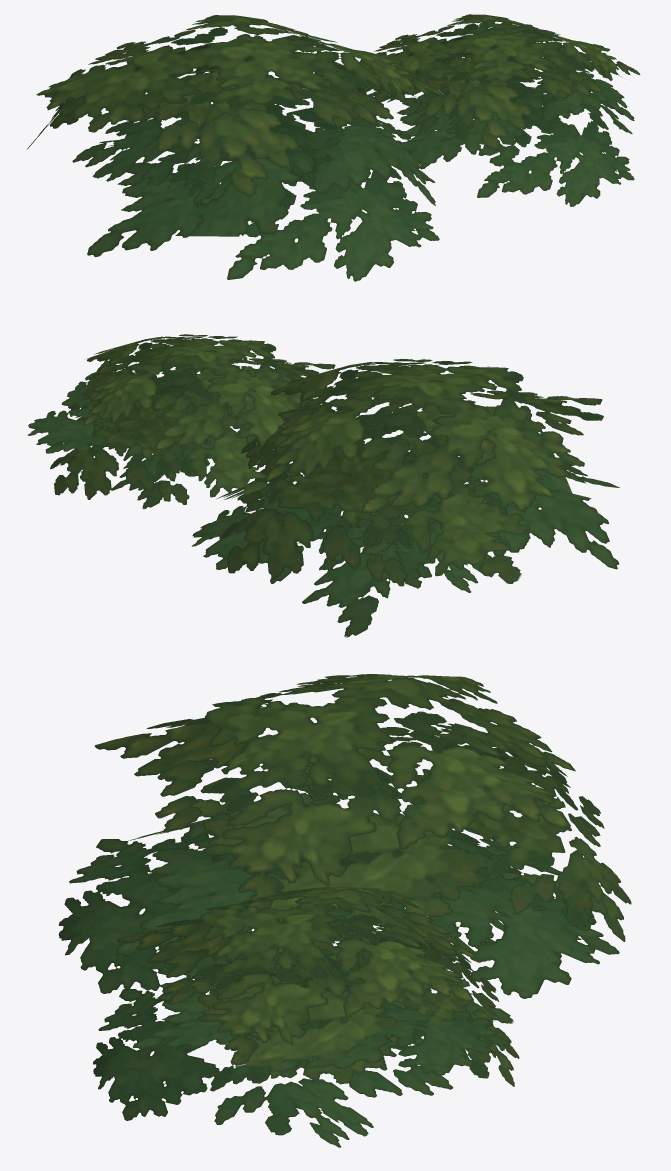
The model's file is shrine_plant002_03.FBX.
The picture shows the model from 3 angles, top to bottom: view 1: azimuth 30°, elevation 25°; view 2: azimuth 150°, elevation 25°; view 3: azimuth 270°, elevation 25°; orthographic projection. The views are drawn at different scales.
Parts seen in each view (by area): view 1: shrine_plant002_03; view 2: shrine_plant002_03; view 3: shrine_plant002_03.
Boxes of the visible parts, x1,y1,x2,y2 form: shrine_plant002_03: (27,14,639,281); shrine_plant002_03: (27,334,619,637); shrine_plant002_03: (58,674,631,1147).
Size of the model in its own units: 236 by 67.98 by 175.
